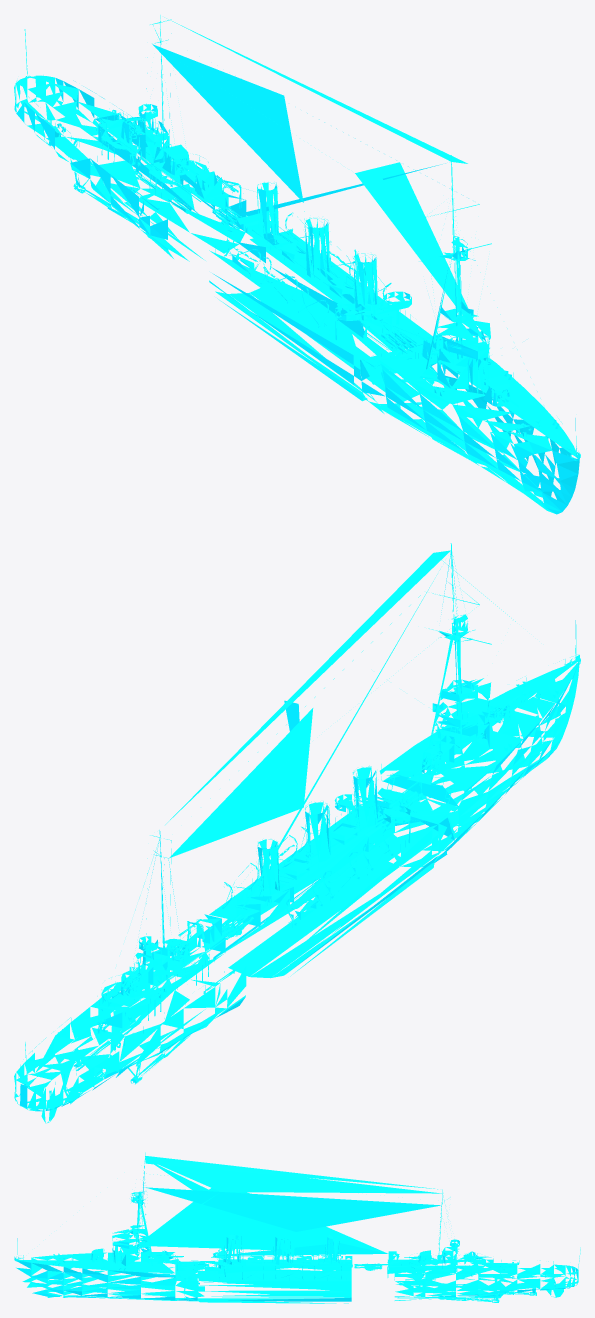
Rendered from PJSC015.glb.
The picture shows the model from 3 angles, top to bottom: view 1: azimuth 30°, elevation 25°; view 2: azimuth 150°, elevation 25°; view 3: azimuth 270°, elevation 25°; orthographic projection. The views are drawn at different scales.
Visible parts, largest first — view 1: hull_mid, hull_bow, hull_stern, main_battery, torpedo; view 2: hull_mid, hull_bow, hull_stern, main_battery, torpedo; view 3: hull_mid, hull_bow, hull_stern, main_battery, torpedo.
Boxes of the visible parts, x1,y1,x2,y2 form: hull_mid: (70, 15, 483, 413); hull_bow: (361, 155, 580, 514); hull_stern: (14, 29, 132, 176); main_battery: (112, 112, 518, 407); torpedo: (212, 206, 416, 353); hull_mid: (70, 550, 476, 1084); hull_bow: (377, 543, 580, 867); hull_stern: (14, 1017, 136, 1123); main_battery: (111, 695, 519, 998); torpedo: (222, 790, 422, 939); hull_mid: (134, 1156, 501, 1303); hull_bow: (14, 1152, 217, 1300); hull_stern: (500, 1247, 580, 1297); main_battery: (76, 1248, 491, 1264); torpedo: (181, 1263, 382, 1270).
Bounding box in the file's own units: 0.8431 × 2.71 × 9.55.
